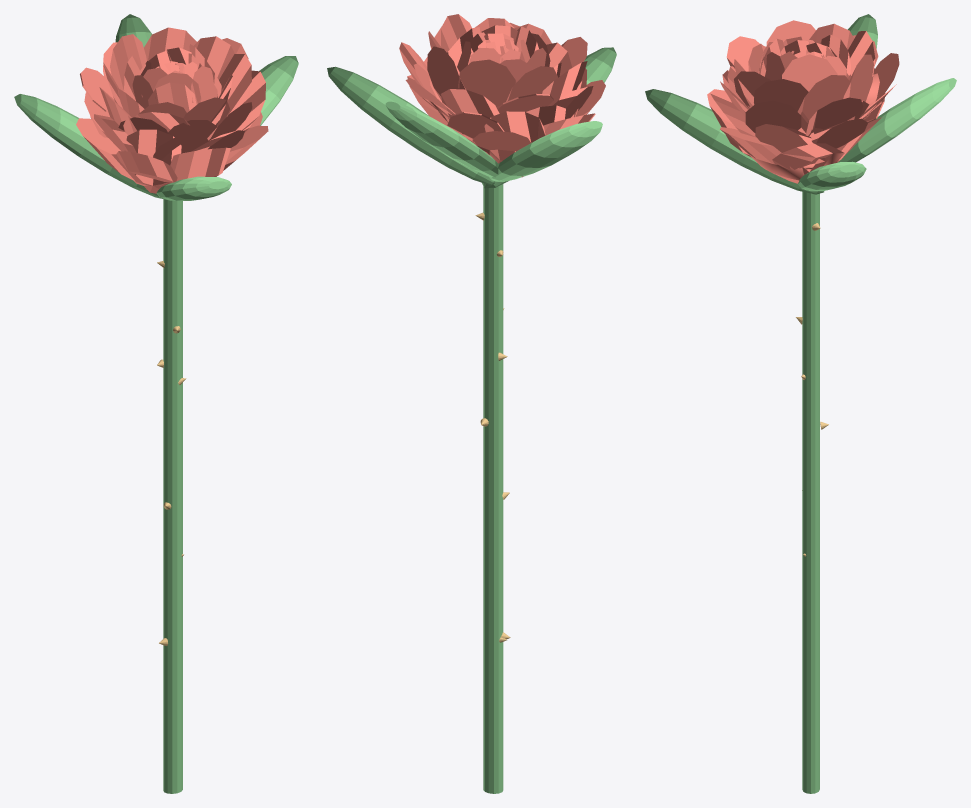
The model's file is Rose.fbx.
3 views of the same model, side by side, from view 1: azimuth 30°, elevation 25°; view 2: azimuth 150°, elevation 25°; view 3: azimuth 270°, elevation 25° (orthographic). The views are drawn at different scales.
Parts seen in each view (by area): view 1: model.001; view 2: model.001; view 3: model.001.
Part boxes in pixels (bbox=[...]): model.001: bbox=[14, 14, 298, 793]; model.001: bbox=[327, 14, 616, 793]; model.001: bbox=[645, 14, 956, 793].
Size of the model in its own units: 108 by 280 by 106.
